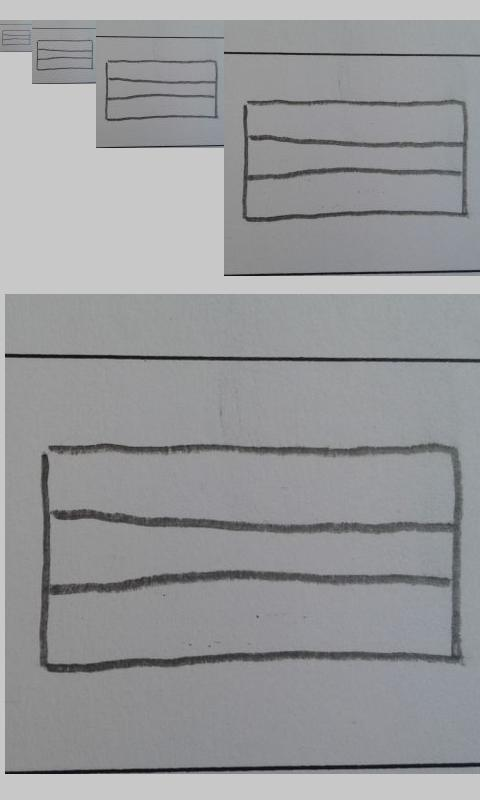list_view: (37, 441, 463, 674), (241, 97, 469, 223), (104, 58, 219, 122), (36, 39, 94, 71), (1, 29, 32, 46)
